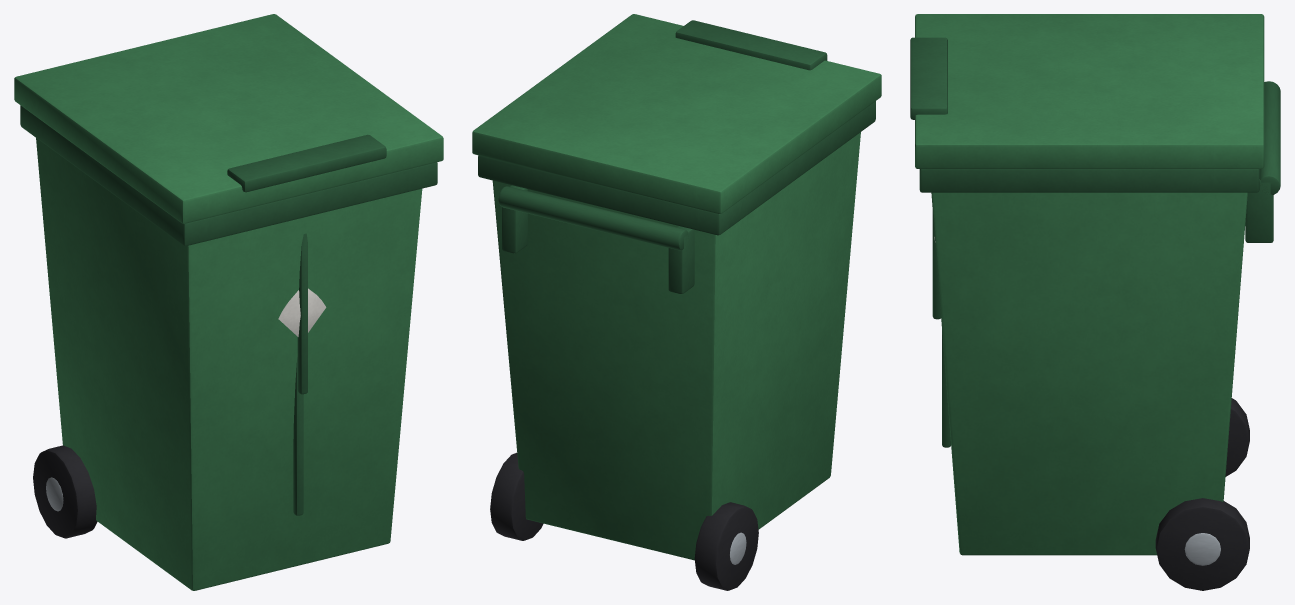
File: cubo_basura.gltf
The picture shows the model from 3 angles, left to right: view 1: azimuth 30°, elevation 25°; view 2: azimuth 150°, elevation 25°; view 3: azimuth 270°, elevation 25°; orthographic projection. The views are drawn at different scales.
Visible parts, largest first — view 1: cubo_basura, tapa, rueda_izq; view 2: cubo_basura, tapa, rueda_izq, rueda_der; view 3: cubo_basura, tapa, rueda_der, rueda_izq.
Boxes of the visible parts, x1=… form: cubo_basura: x1=20, y1=105, x2=437, y2=590; tapa: x1=14, y1=14, x2=443, y2=223; rueda_izq: x1=33, y1=445, x2=97, y2=538; cubo_basura: x1=478, y1=101, x2=875, y2=560; tapa: x1=472, y1=14, x2=881, y2=213; rueda_izq: x1=694, y1=502, x2=758, y2=590; rueda_der: x1=490, y1=452, x2=543, y2=540; cubo_basura: x1=919, y1=81, x2=1280, y2=555; tapa: x1=910, y1=14, x2=1264, y2=168; rueda_der: x1=1155, y1=498, x2=1249, y2=590; rueda_izq: x1=1225, y1=398, x2=1249, y2=476.
Bounding box in the file's own units: 0.66 × 1.08 × 0.785.
Materials: 6 (6 with a texture image).
